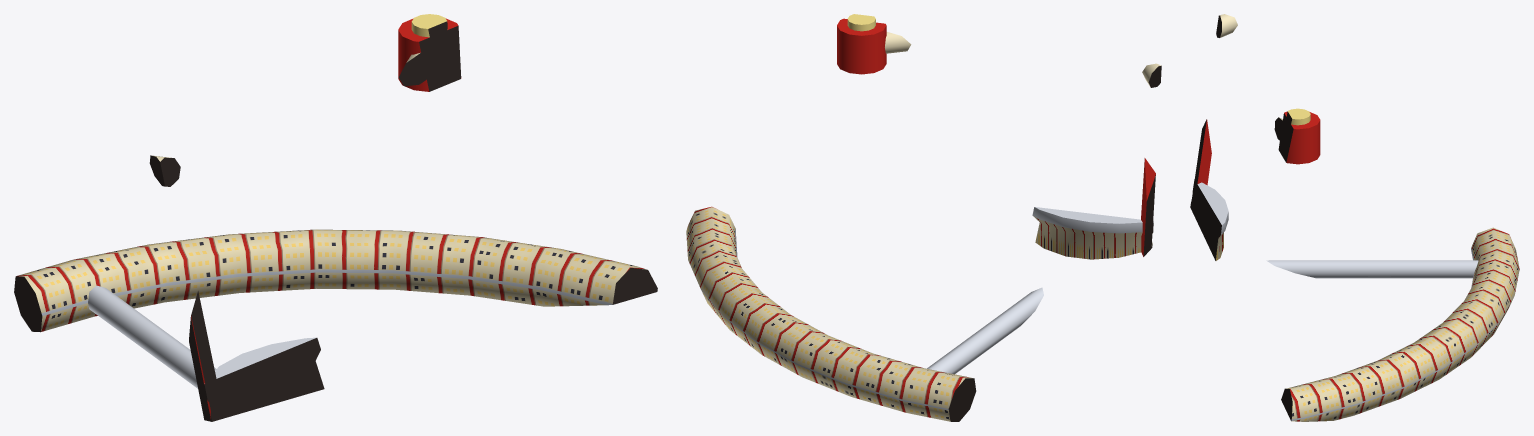
Rendered from guard_station_debris1.obj.
3 views of the same model, side by side, from view 1: azimuth 30°, elevation 25°; view 2: azimuth 150°, elevation 25°; view 3: azimuth 270°, elevation 25° (orthographic). The views are drawn at different scales.
Visible parts, largest first — view 1: ring, tower, spoke, cradle, buttress315, arm, cradle_light; view 2: ring, tower, spoke, cradle, buttress315, arm; view 3: ring, spoke, tower, cradle, buttress315, arm, cradle_light.
Boxes of the visible parts, x1,y1,x2,y2 form: ring: (14,229,657,332); tower: (204,337,324,421); spoke: (88,285,216,388); cradle: (398,18,461,91); buttress315: (189,291,224,421); arm: (149,50,442,186); cradle_light: (411,14,447,37); ring: (686,206,976,421); tower: (1032,207,1153,259); spoke: (927,287,1043,374); cradle: (837,18,886,74); buttress315: (1141,158,1155,256); arm: (885,32,1161,87); ring: (1281,227,1519,421); spoke: (1266,260,1478,278); tower: (1190,179,1228,260); cradle: (1278,111,1320,164); buttress315: (1190,119,1211,212); arm: (1216,14,1285,142); cradle_light: (1286,108,1310,125).
Size of the model in its own units: 141 by 85 by 102.
Materials: 6 (1 with a texture image).
